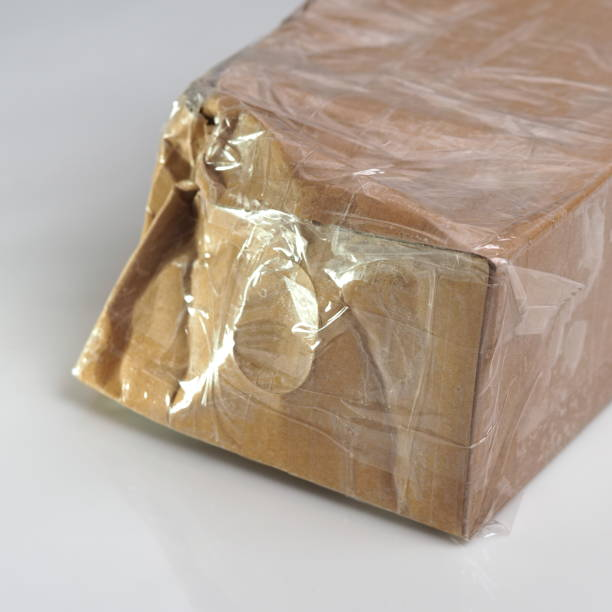damaged package: (79, 85, 515, 417)
